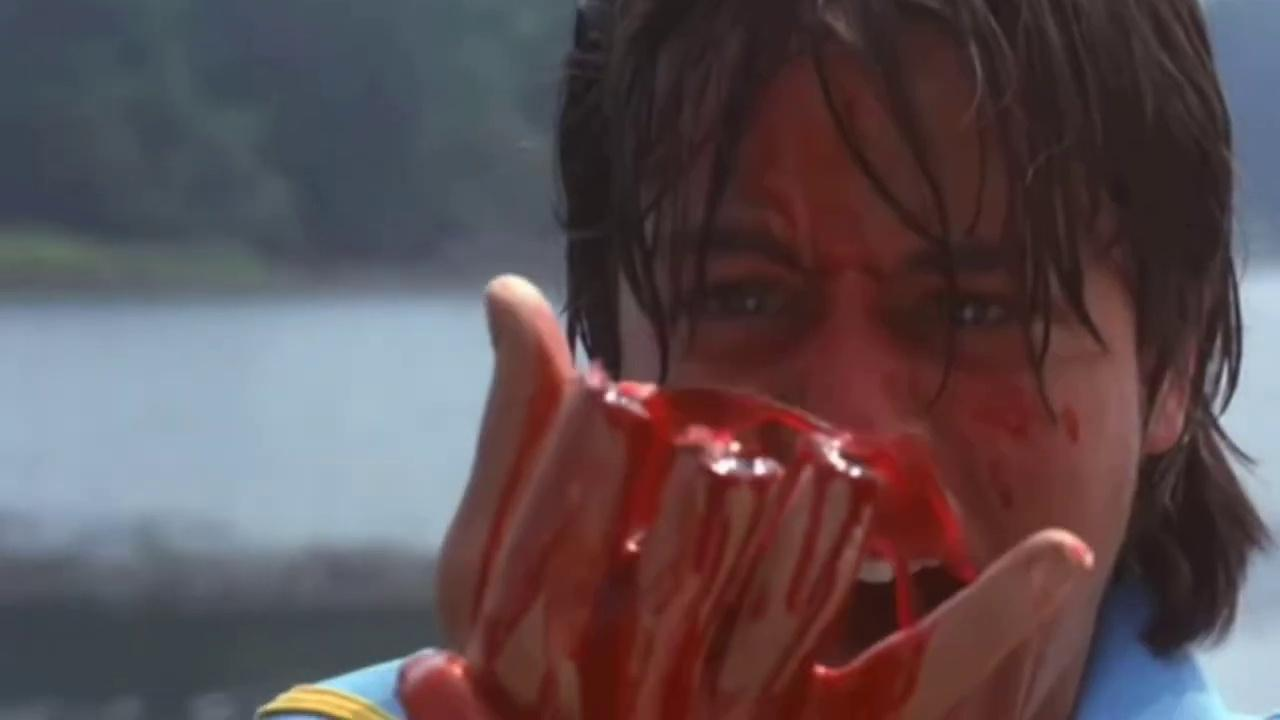Fire: (399, 28, 1193, 718)
